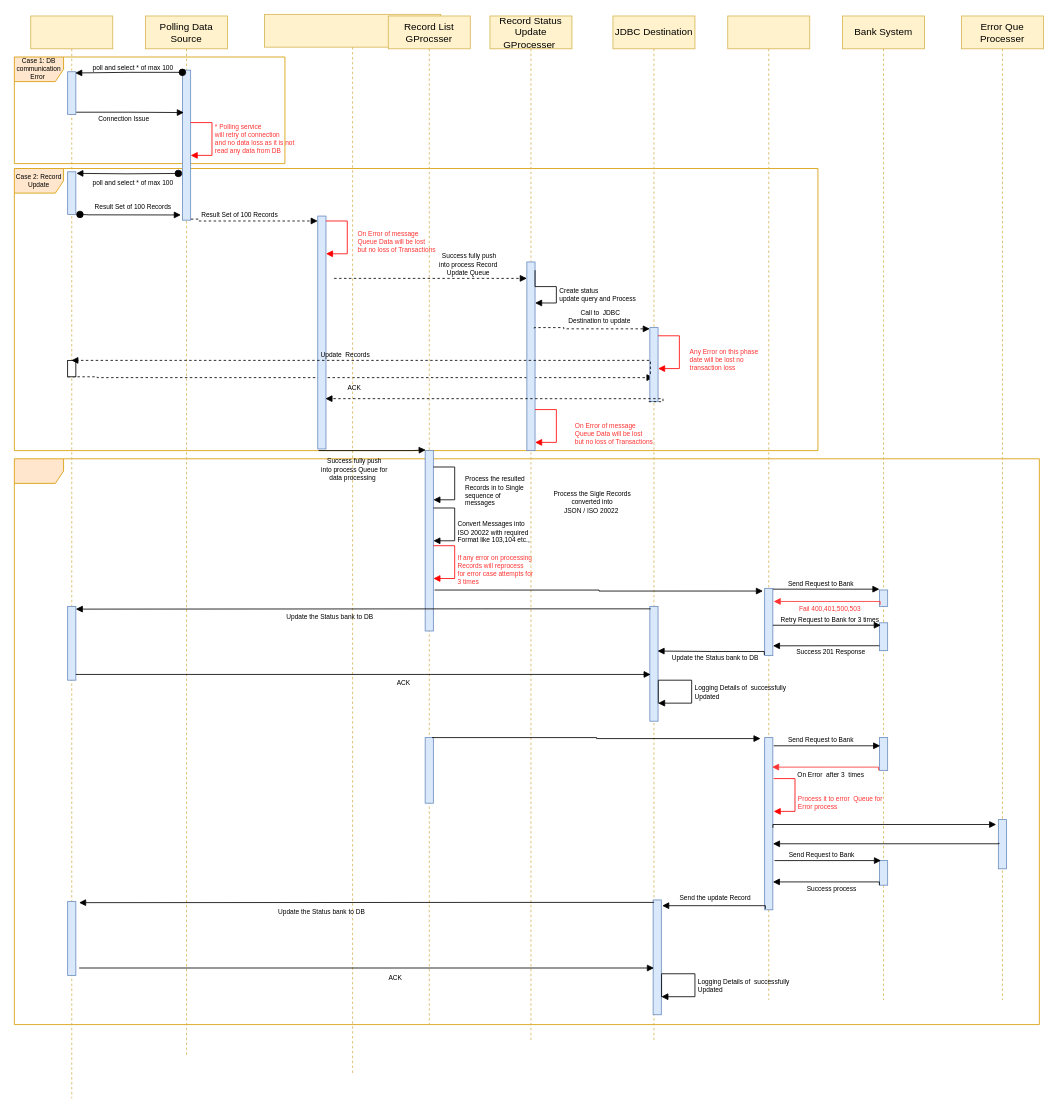
The diagram is 1058 pixels wide and 1113 high, and some of its shapes have lost their labels. The shapes that lost their labels are listed below. From the top down, each one's box as (x1, y1, x2, y2) in pixels, then its label:
(727, 15, 810, 1000): Rest Client
(30, 15, 113, 1098): Loan IQ Database
(264, 14, 441, 1074): Message Router
(14, 458, 1039, 1025): Case 4: Rest Client Retry Error process
